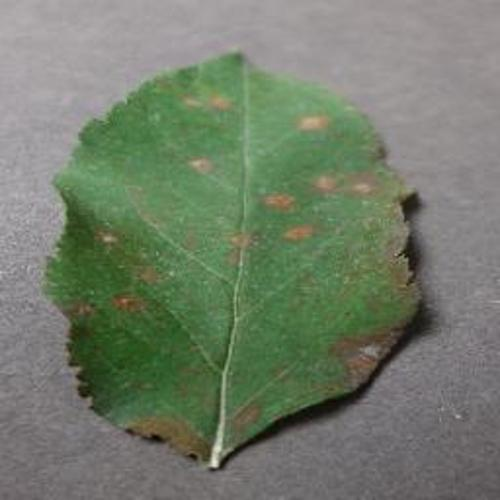Apple: (45, 53, 421, 469)
